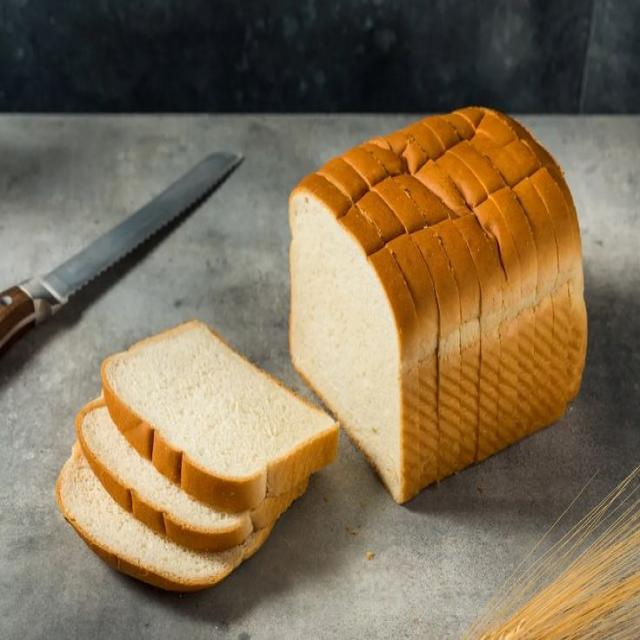sliced_bread: (102, 321, 338, 511), (76, 399, 306, 550), (57, 443, 271, 591)
